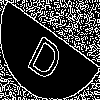D: (25, 25, 70, 84)
